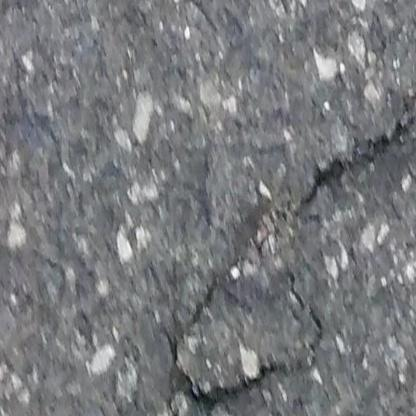Cracks: (160, 84, 416, 416)
